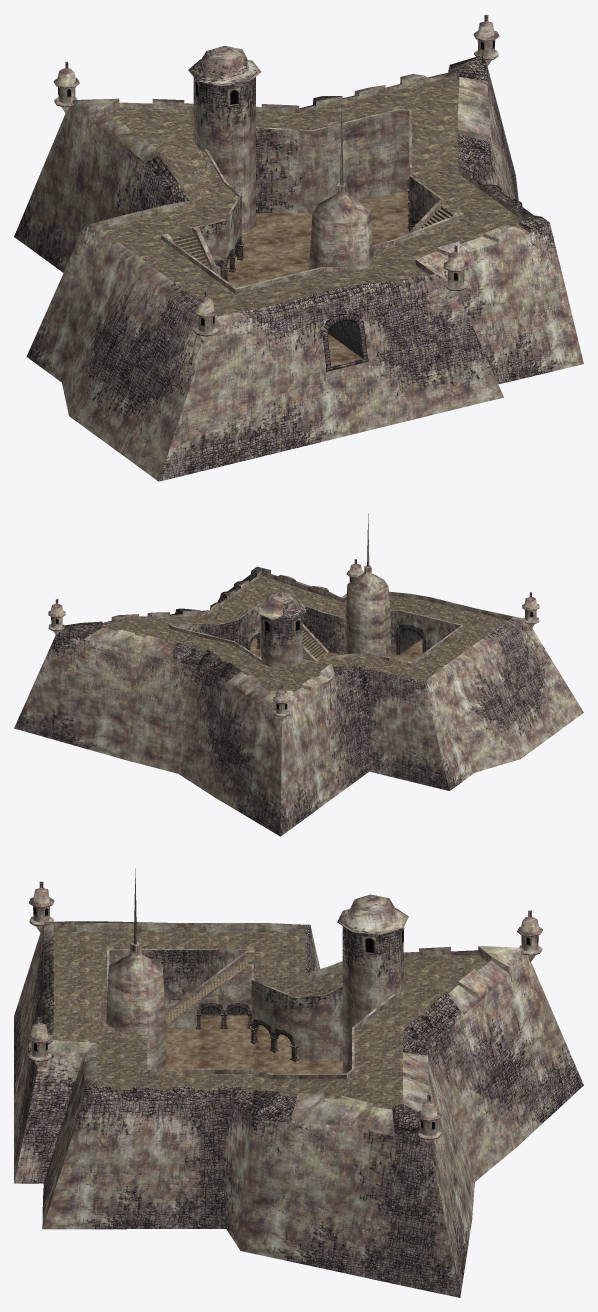
The model's file is pir_m_bld_frt_fortMedium_interior.fbx.
3 renders of one model, top to bottom at view 1: azimuth 30°, elevation 25°; view 2: azimuth 150°, elevation 25°; view 3: azimuth 270°, elevation 25°, orthographic. The views are drawn at different scales.
Visible parts, largest first — view 1: polySurface510, TopFloor, Int_walls8, tower14, polySurface473, tower11, polySurface282, polySurface492, polySurface198, corner_tower14, corner_tower11, corner_tower13 (+1 smaller); view 2: polySurface510, TopFloor, Int_walls8, tower11, tower14, polySurface282, polySurface473; view 3: polySurface510, TopFloor, Int_walls8, tower14, polySurface473, tower11, polySurface282, polySurface492, corner_tower12, corner_tower11, corner_tower13, Stairs1 (+1 smaller).
Part boxes in pixels (x1=…): polySurface510: x1=14, y1=55, x2=583, y2=481; TopFloor: x1=100, y1=77, x2=522, y2=316; Int_walls8: x1=198, y1=110, x2=440, y2=283; tower14: x1=188, y1=46, x2=261, y2=234; polySurface473: x1=216, y1=192, x2=416, y2=366; tower11: x1=309, y1=183, x2=373, y2=271; polySurface282: x1=161, y1=109, x2=463, y2=293; polySurface492: x1=92, y1=74, x2=507, y2=255; polySurface198: x1=328, y1=320, x2=363, y2=358; corner_tower14: x1=193, y1=297, x2=219, y2=342; corner_tower11: x1=443, y1=252, x2=468, y2=296; corner_tower13: x1=53, y1=68, x2=79, y2=113; polySurface510: x1=14, y1=566, x2=583, y2=836; TopFloor: x1=102, y1=575, x2=507, y2=692; Int_walls8: x1=170, y1=604, x2=460, y2=654; tower11: x1=345, y1=565, x2=390, y2=656; tower14: x1=257, y1=591, x2=306, y2=668; polySurface282: x1=168, y1=602, x2=463, y2=666; polySurface473: x1=243, y1=637, x2=422, y2=663; polySurface510: x1=14, y1=921, x2=583, y2=1297; TopFloor: x1=53, y1=932, x2=487, y2=1109; Int_walls8: x1=109, y1=950, x2=342, y2=1074; tower14: x1=337, y1=894, x2=408, y2=1073; polySurface473: x1=30, y1=1014, x2=342, y2=1074; tower11: x1=106, y1=942, x2=166, y2=1071; polySurface282: x1=107, y1=949, x2=396, y2=1079; polySurface492: x1=84, y1=957, x2=509, y2=1125; corner_tower12: x1=416, y1=1101, x2=441, y2=1146; corner_tower11: x1=26, y1=1022, x2=52, y2=1066; corner_tower13: x1=517, y1=916, x2=542, y2=962; Stairs1: x1=168, y1=958, x2=248, y2=1022.
Bounding box in the file's own units: 49238 × 21968 × 42071.
Materials: 8 (8 with a texture image).
